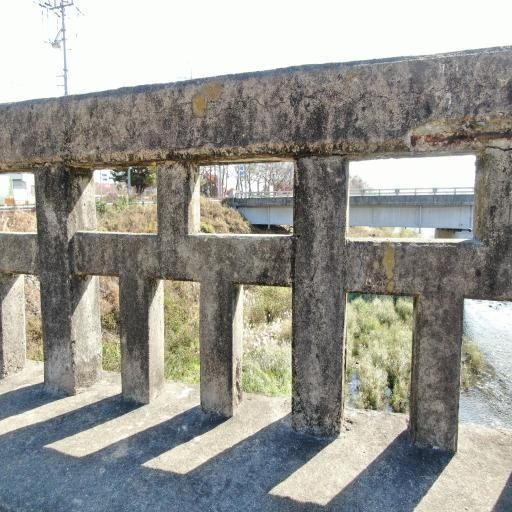exposed_rebar: (410, 133, 512, 149), (72, 169, 91, 177)
